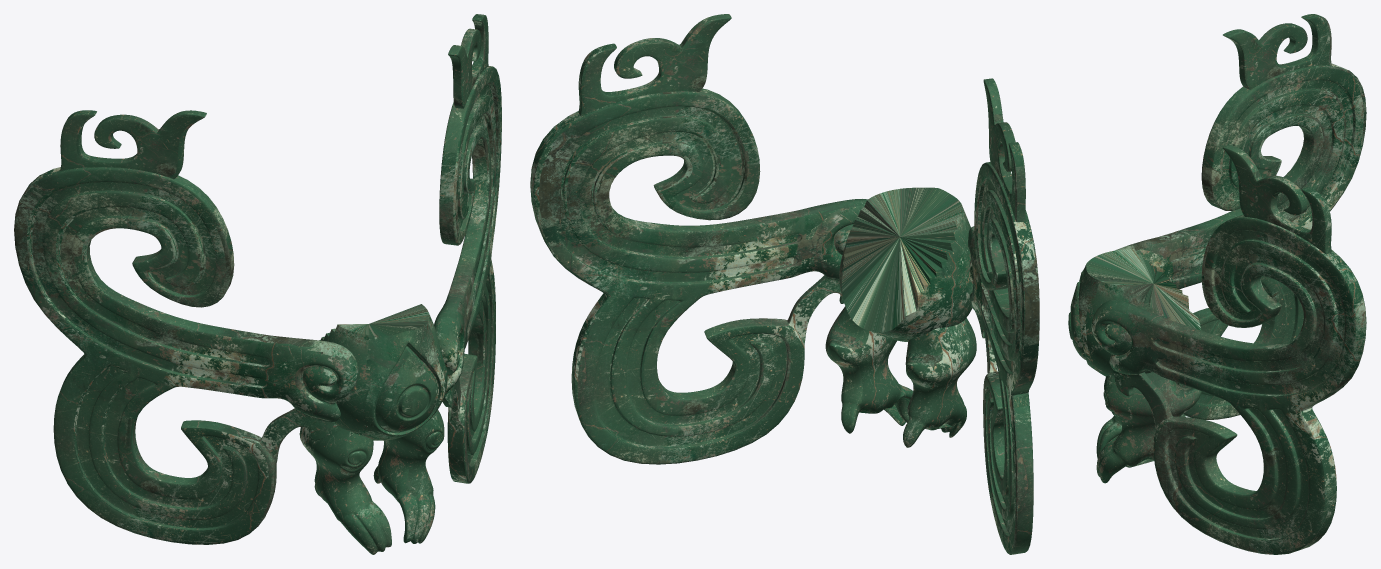
The model's file is 羽人（破碎版2）.fbx.
The picture shows the model from 3 angles, left to right: view 1: azimuth 30°, elevation 25°; view 2: azimuth 150°, elevation 25°; view 3: azimuth 270°, elevation 25°; orthographic projection. The views are drawn at different scales.
Parts seen in each view (by area): view 1: Cb2; view 2: Cb2; view 3: Cb2.
Boxes of the visible parts, box(x1,y1,x2,y2) form: Cb2: box(14, 14, 501, 554); Cb2: box(530, 14, 1039, 554); Cb2: box(1068, 14, 1366, 554).
Size of the model in its own units: 160 by 133 by 92.56.
1 material, 1 textured.
